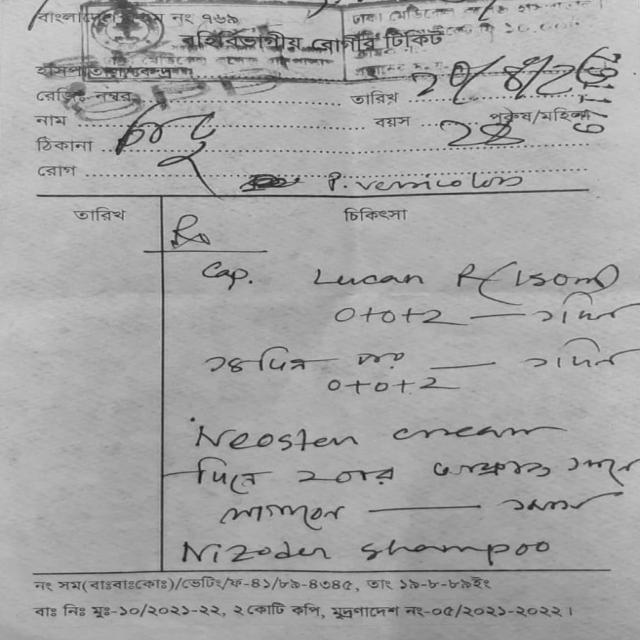medicine: (298, 252, 502, 294), (184, 420, 374, 459), (171, 534, 336, 574)
